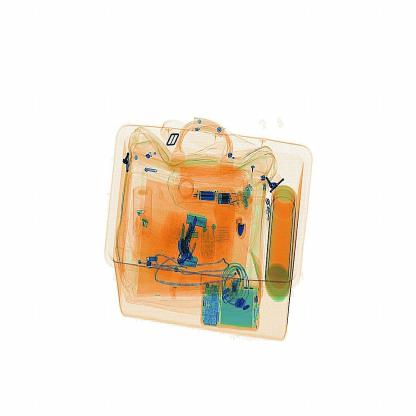wrench: (233, 212, 255, 248)
